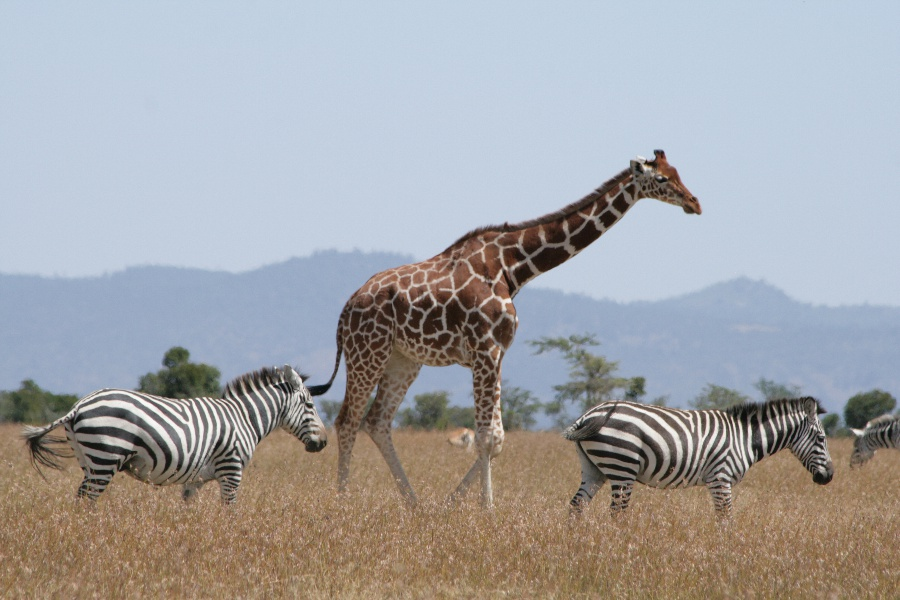giraffe: (323, 143, 710, 403)
